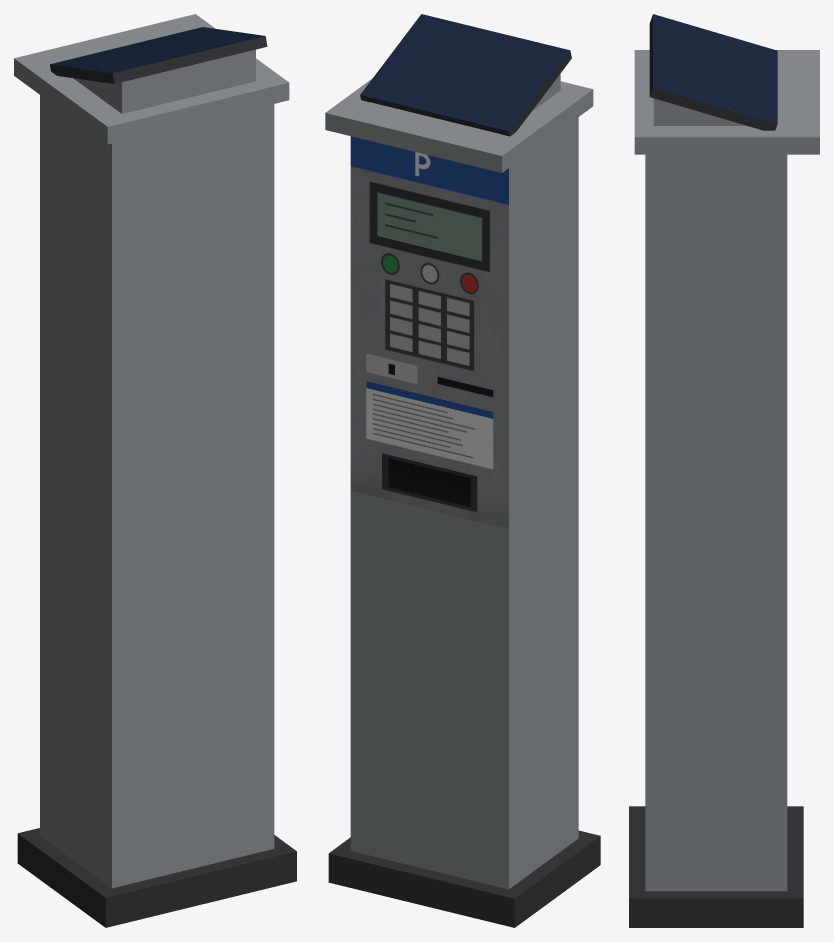
The model's file is parking_meter.glb.
The picture shows the model from 3 angles, left to right: view 1: azimuth 30°, elevation 25°; view 2: azimuth 150°, elevation 25°; view 3: azimuth 270°, elevation 25°; orthographic projection. The views are drawn at different scales.
Parts seen in each view (by area): view 1: parking_meter; view 2: parking_meter; view 3: parking_meter.
Part boxes in pixels (x1,y1,x2,y2): parking_meter: [14, 14, 296, 927]; parking_meter: [325, 14, 600, 927]; parking_meter: [629, 14, 819, 927].
Bounding box in the file's own units: 0.4 × 1.68 × 0.35.
Materials: 4 (1 with a texture image).
